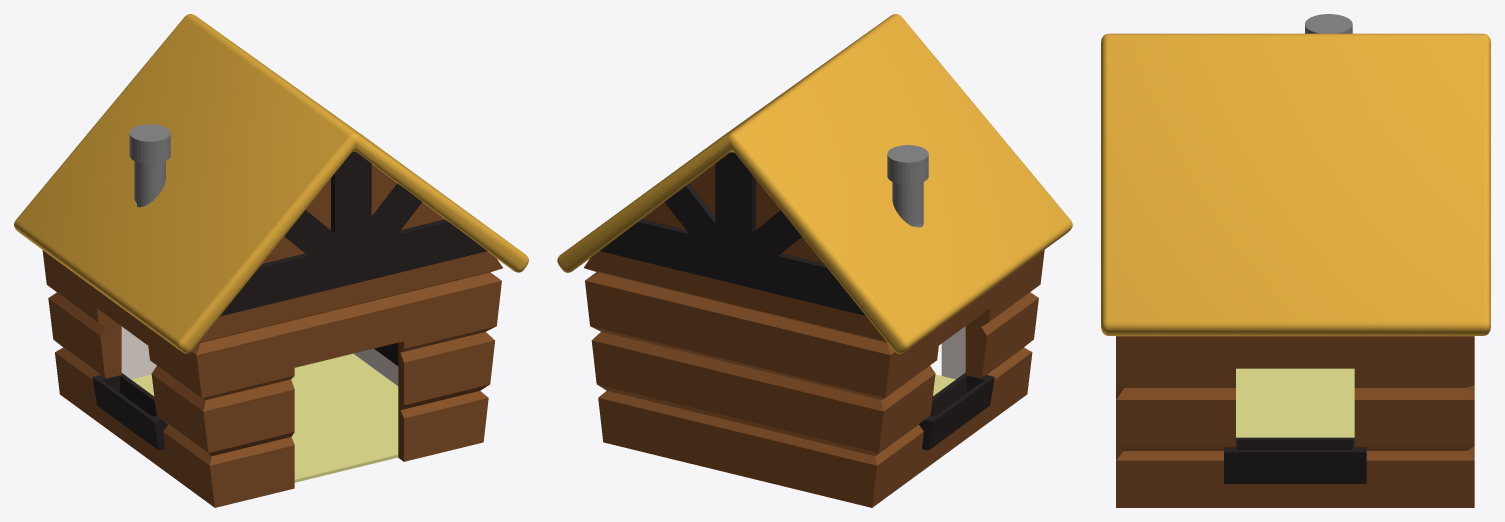
Rendered from hut2.glb.
The picture shows the model from 3 angles, left to right: view 1: azimuth 30°, elevation 25°; view 2: azimuth 150°, elevation 25°; view 3: azimuth 270°, elevation 25°; orthographic projection. The views are drawn at different scales.
Visible parts, largest first — view 1: Hut; view 2: Hut; view 3: Hut.
Boxes of the visible parts, left/top/right/bottom form: Hut: left=14, top=14, right=528, bottom=507; Hut: left=557, top=14, right=1072, bottom=507; Hut: left=1101, top=14, right=1490, bottom=507.
Size of the model in its own units: 9.67 by 9.06 by 8.05.
